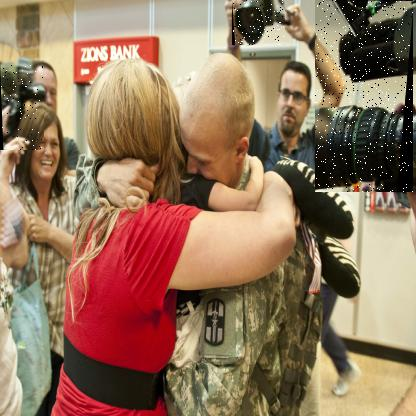Camera: (316, 1, 415, 194), (1, 61, 46, 152), (233, 1, 287, 47)
